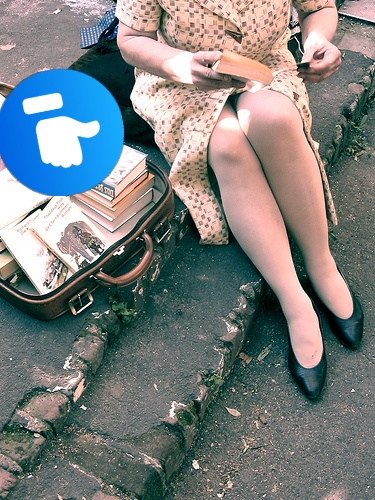like: (0, 69, 124, 196)
